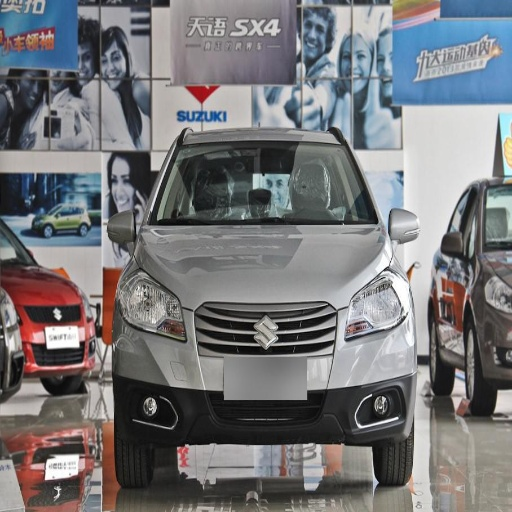front_bumper: (111, 303, 416, 444), (178, 456, 276, 480)
front_right_light: (117, 265, 185, 341)
hood: (139, 225, 388, 308)
